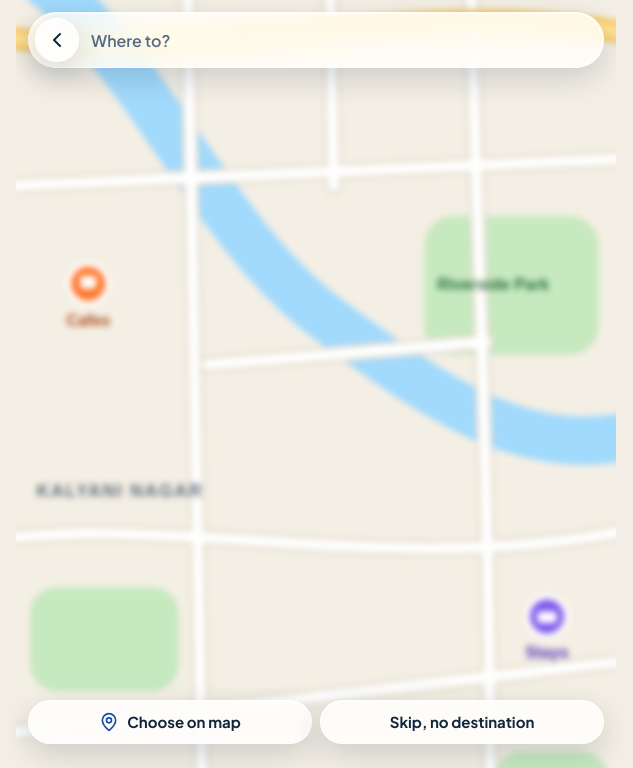
it: Destination screen › says when nothing matches
Type "zzzz" into the search field named "Search for a place".
click(340, 40); type("zzzz")  # box [83, 18, 597, 62]
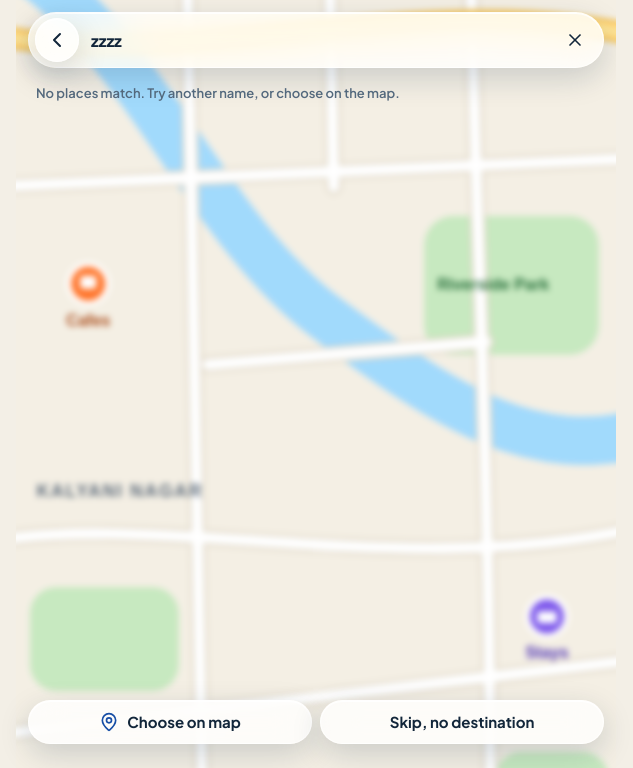
expect the text "No places match. Try another name, or choose on the map." is shown: met, box [36, 85, 400, 101]
